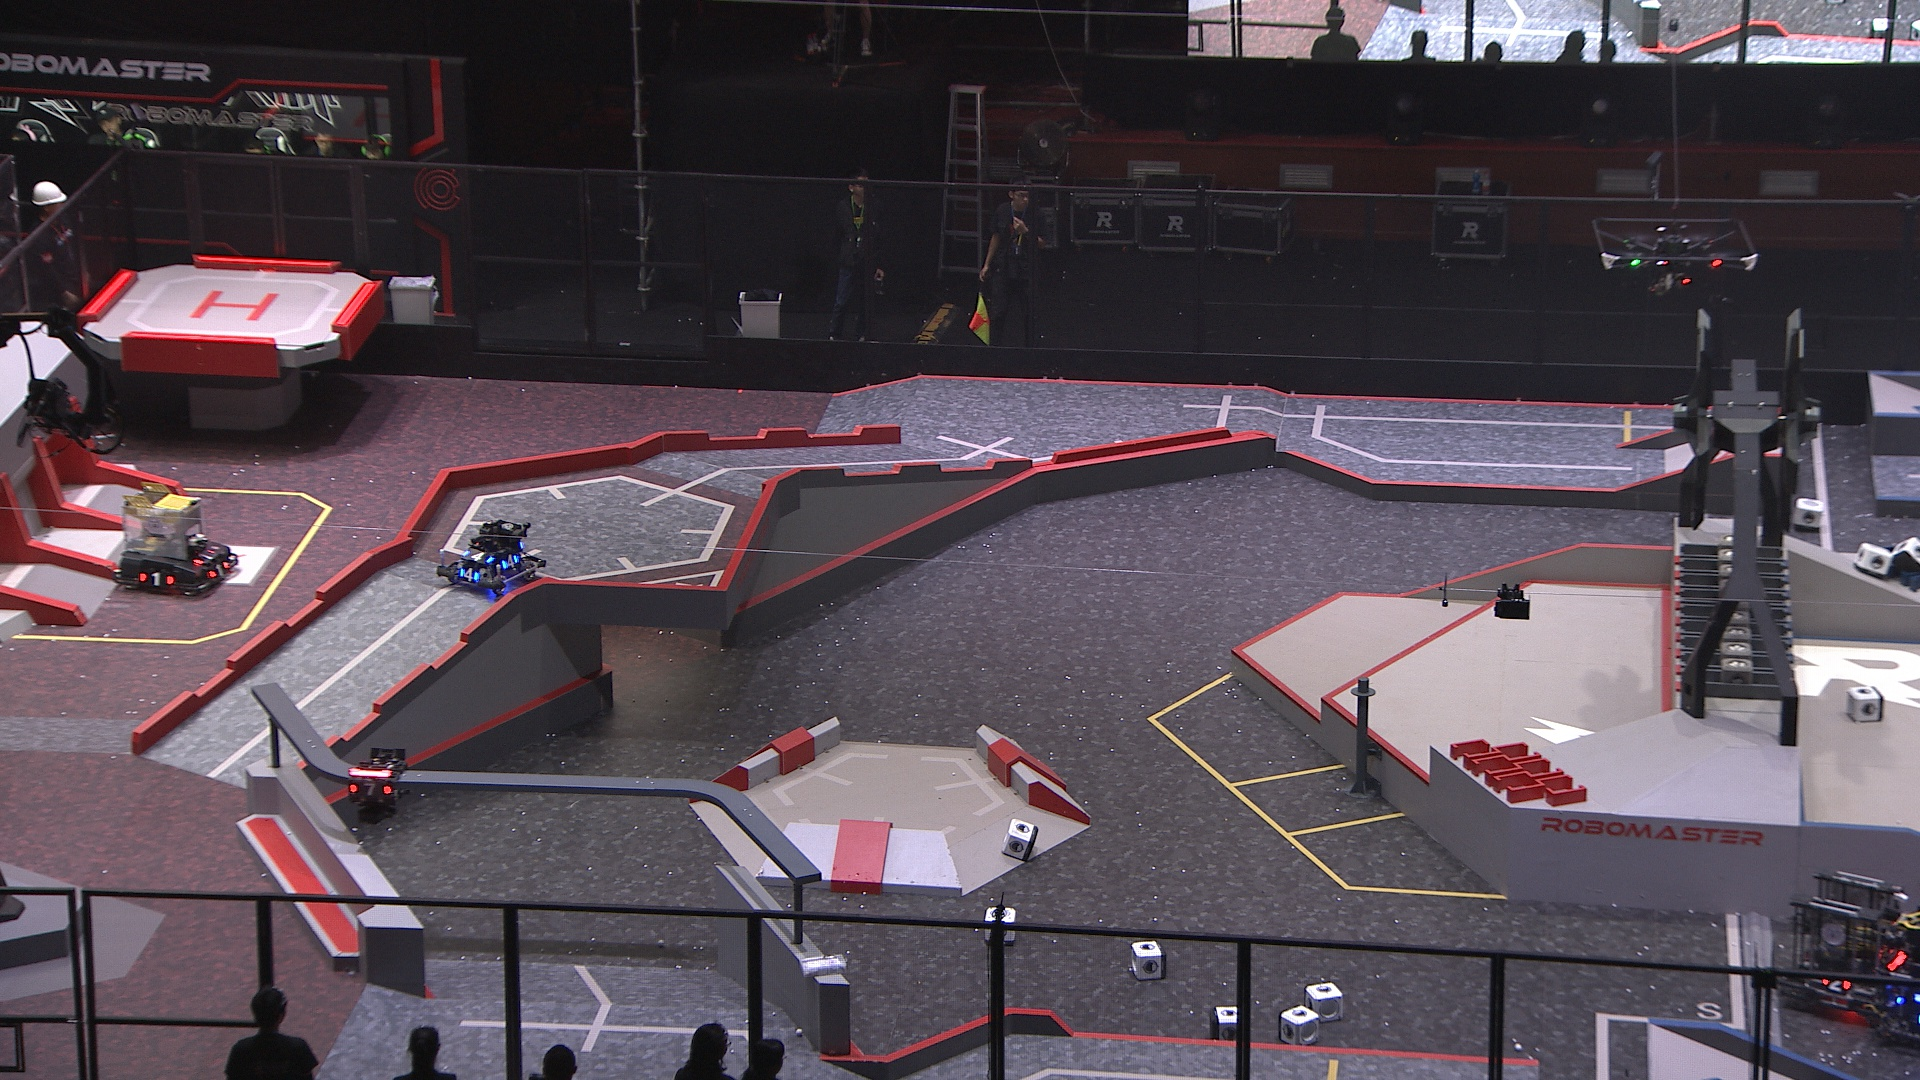armor: (348, 778, 394, 799), (136, 570, 175, 589), (1821, 971, 1851, 994), (204, 556, 231, 582), (462, 547, 495, 566), (190, 545, 218, 566), (458, 564, 481, 585), (498, 550, 520, 571)
car: (1768, 864, 1902, 1015), (109, 477, 237, 595), (436, 514, 542, 603), (1870, 905, 1920, 1054)
watcher: (340, 745, 410, 822)
